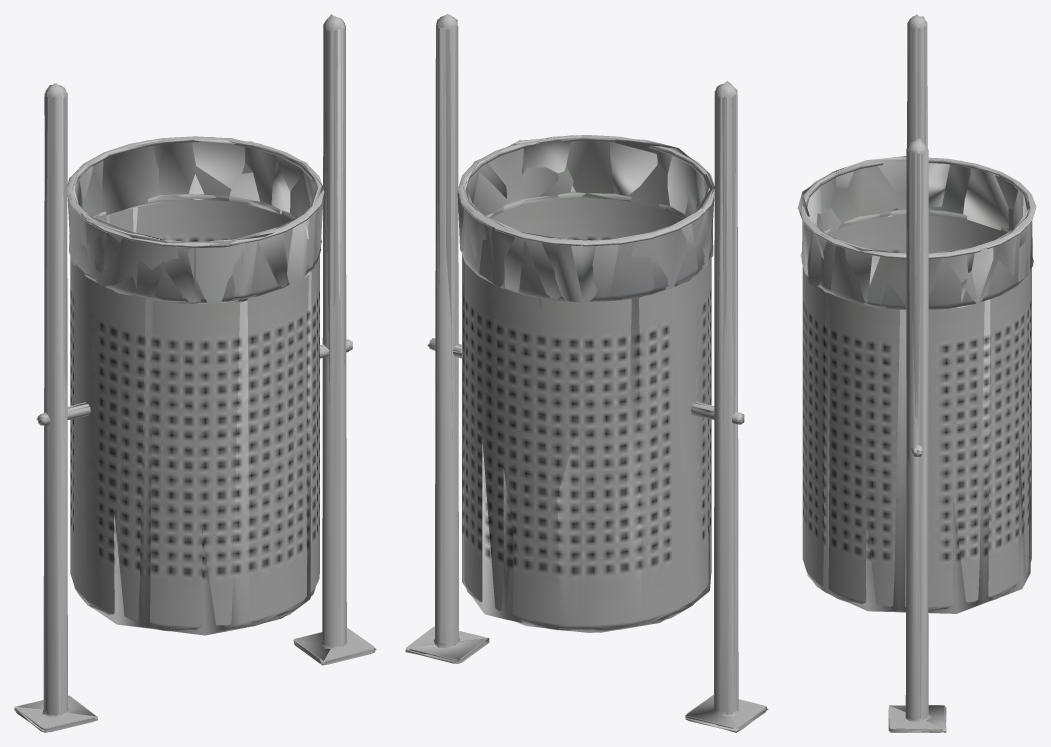
The model's file is sm_bin_001.glb.
3 views of the same model, side by side, from view 1: azimuth 30°, elevation 25°; view 2: azimuth 150°, elevation 25°; view 3: azimuth 270°, elevation 25° (orthographic). The views are drawn at different scales.
Visible parts, largest first — view 1: sm_bin_001_00; view 2: sm_bin_001_00; view 3: sm_bin_001_00.
Part boxes in pixels (x1=…): sm_bin_001_00: x1=14, y1=14, x2=376, y2=732; sm_bin_001_00: x1=405, y1=14, x2=768, y2=732; sm_bin_001_00: x1=797, y1=14, x2=1036, y2=732.
Size of the model in its own units: 0.619 by 1.12 by 0.4168.
1 material, 1 textured.
